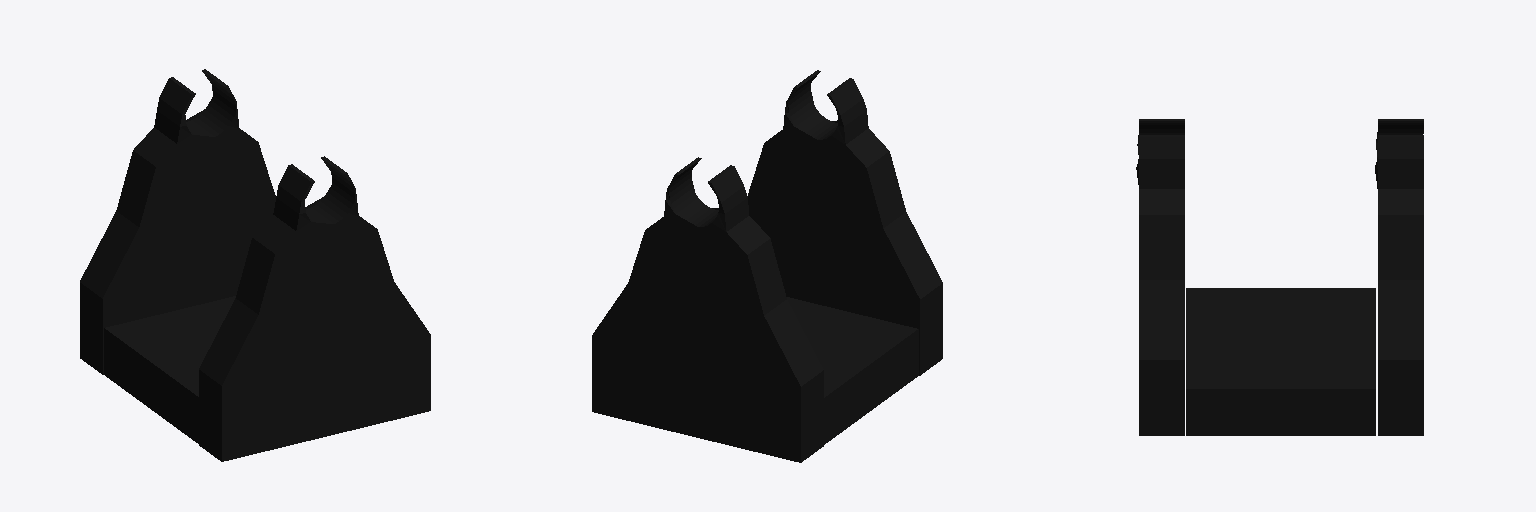
File: grindstonebase.obj
The picture shows the model from 3 angles: view 1: azimuth 30°, elevation 25°; view 2: azimuth 150°, elevation 25°; view 3: azimuth 270°, elevation 25°; orthographic projection.
Visible parts, largest first — view 1: Cube.003; view 2: Cube.003; view 3: Cube.003.
Boxes of the visible parts, box(x1,y1,x2,y2) form: Cube.003: box(80, 69, 430, 461); Cube.003: box(592, 70, 942, 462); Cube.003: box(1136, 119, 1423, 435).
Bounding box in the file's own units: 1.34 × 1.58 × 1.59.